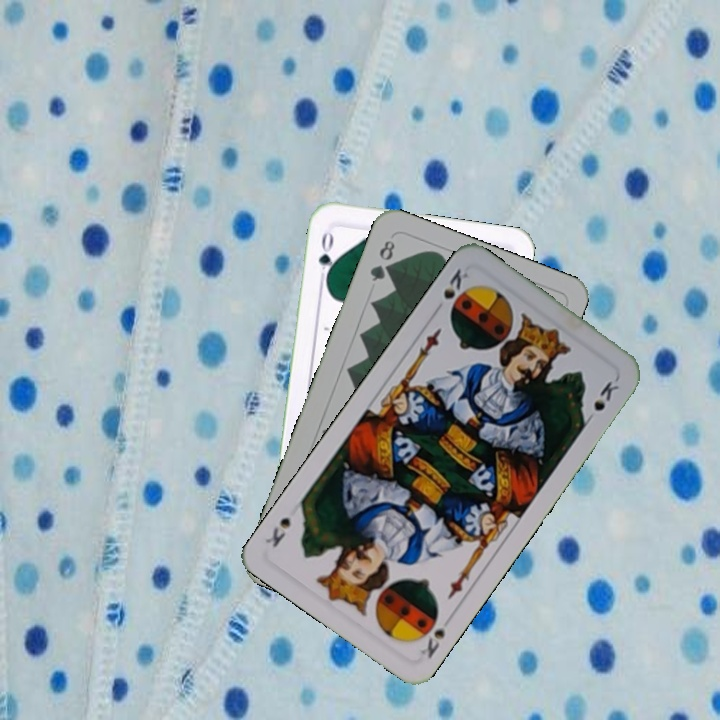G8: (366, 236, 398, 284)
GO: (314, 225, 337, 284)
SK: (413, 607, 456, 661), (439, 264, 471, 302)
